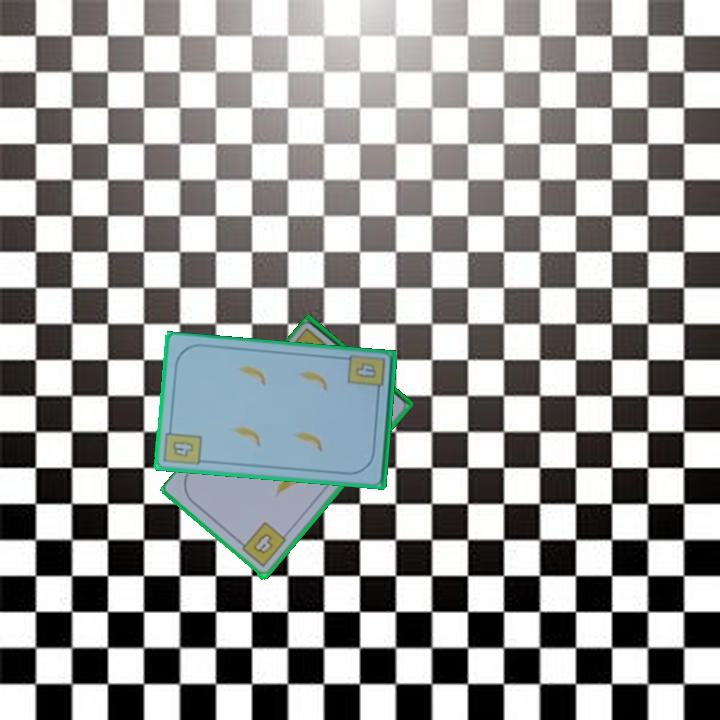4b: (234, 519, 289, 571), (161, 422, 205, 468), (351, 359, 379, 382)
